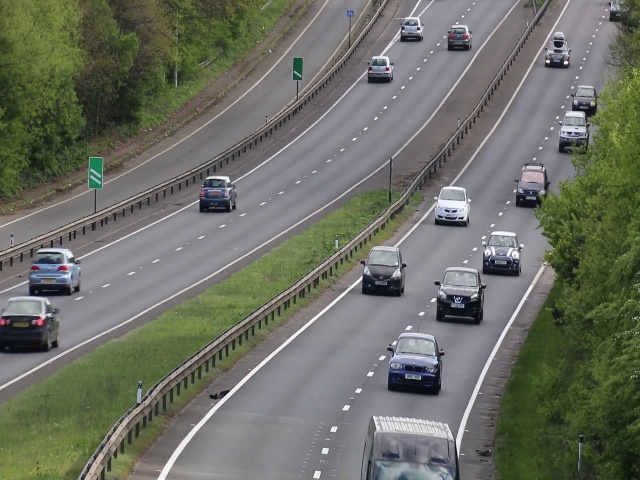car: (1, 296, 62, 352), (387, 332, 441, 394), (435, 267, 483, 324), (26, 244, 80, 290), (358, 244, 405, 294), (484, 225, 521, 272), (197, 173, 237, 211), (434, 185, 471, 223), (517, 165, 550, 203), (557, 112, 589, 150), (366, 53, 394, 80), (399, 13, 424, 41), (546, 41, 571, 68), (572, 82, 596, 110), (446, 22, 472, 47)
